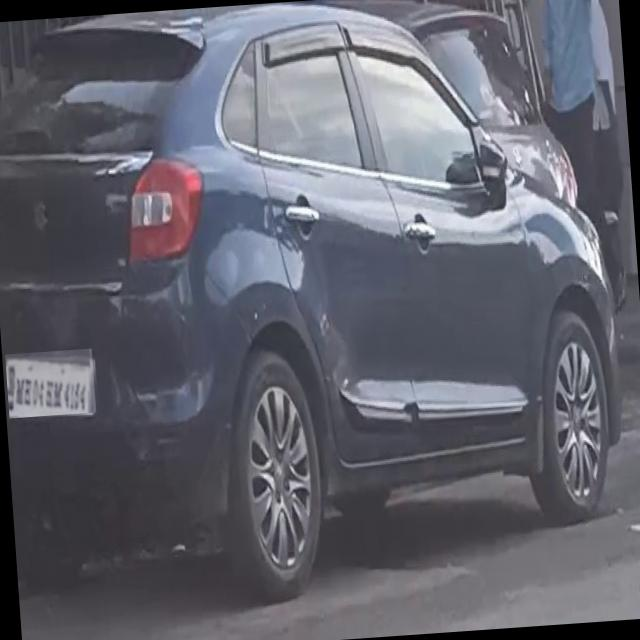Plate: (6, 349, 98, 419)
